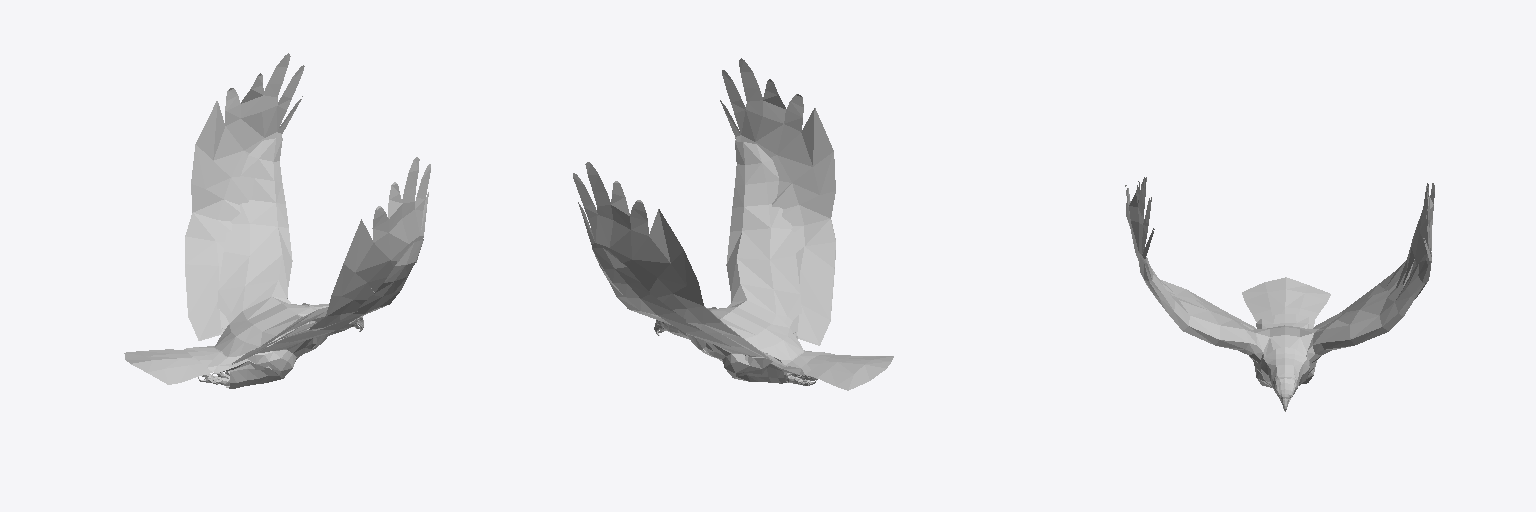
The model's file is aguila.obj.
3 views of the same model, side by side, from view 1: azimuth 30°, elevation 25°; view 2: azimuth 150°, elevation 25°; view 3: azimuth 270°, elevation 25° (orthographic).
Visible parts, largest first — view 1: White_Eagle; view 2: White_Eagle; view 3: White_Eagle.
Boxes of the visible parts, box(x1,y1,x2,y2) form: White_Eagle: box(124, 53, 430, 388); White_Eagle: box(573, 58, 893, 390); White_Eagle: box(1125, 177, 1434, 411).
Size of the model in its own units: 13.91 by 13.71 by 15.34.